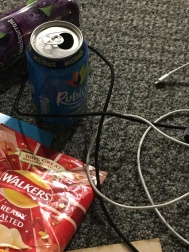can_blue: (22, 18, 97, 130)
